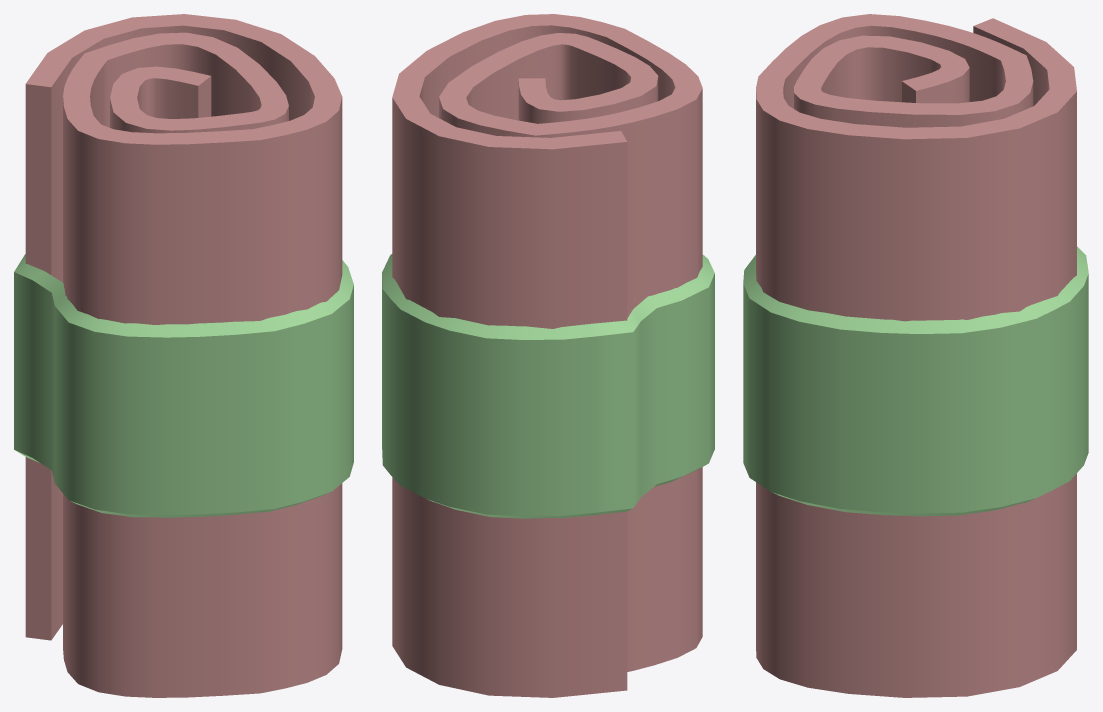
File: Bandage.FBX
The picture shows the model from 3 angles, left to right: view 1: azimuth 30°, elevation 25°; view 2: azimuth 150°, elevation 25°; view 3: azimuth 270°, elevation 25°; orthographic projection.
Parts seen in each view (by area): view 1: Line001, Circle001; view 2: Line001, Circle001; view 3: Line001, Circle001.
Boxes of the visible parts, x1,y1,x2,y2 form: Line001: (25, 14, 342, 697); Circle001: (14, 254, 353, 517); Line001: (392, 14, 702, 697); Circle001: (382, 254, 714, 518); Line001: (756, 14, 1076, 697); Circle001: (743, 246, 1088, 516).
Bounding box in the file's own units: 25.62 × 49.08 × 27.52.
